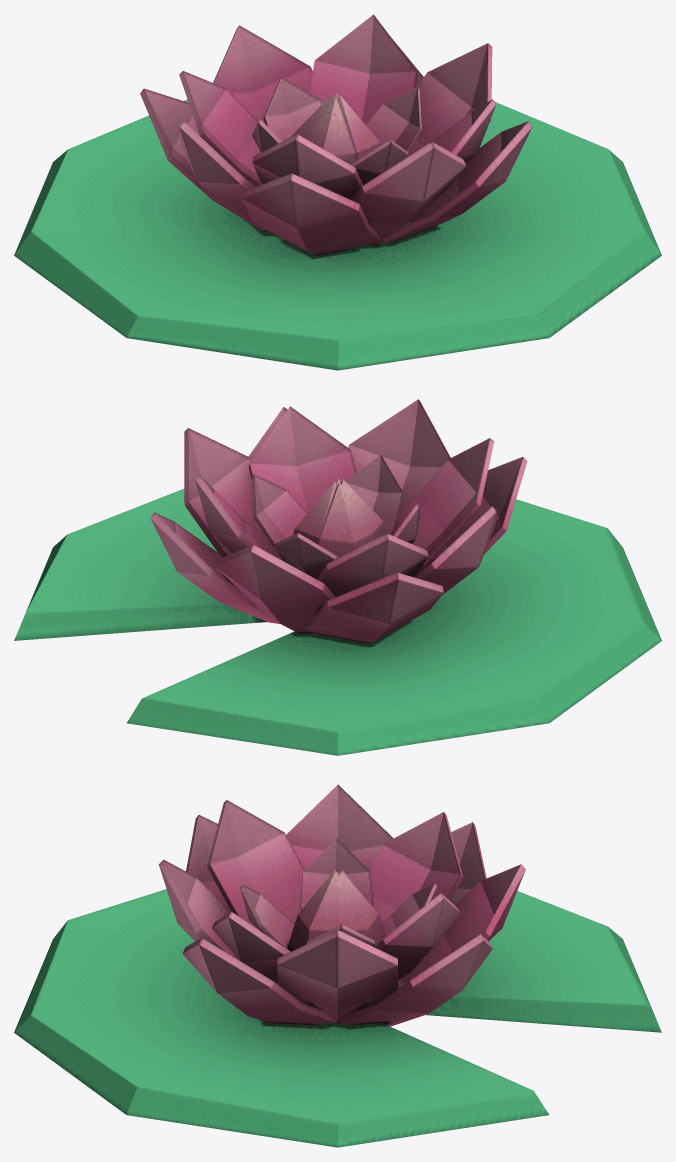
The model's file is Plant-Lilypad-GB.fbx.
The picture shows the model from 3 angles, top to bottom: view 1: azimuth 30°, elevation 25°; view 2: azimuth 150°, elevation 25°; view 3: azimuth 270°, elevation 25°; orthographic projection.
Visible parts, largest first — view 1: Lilypad_mesh; view 2: Lilypad_mesh; view 3: Lilypad_mesh.
Part boxes in pixels (left/top/right/bottom): Lilypad_mesh: left=14, top=14, right=661, bottom=370; Lilypad_mesh: left=14, top=399, right=661, bottom=755; Lilypad_mesh: left=14, top=784, right=661, bottom=1147.
Bounding box in the file's own units: 73.36 × 20.51 × 74.5.
1 material, 1 textured.
